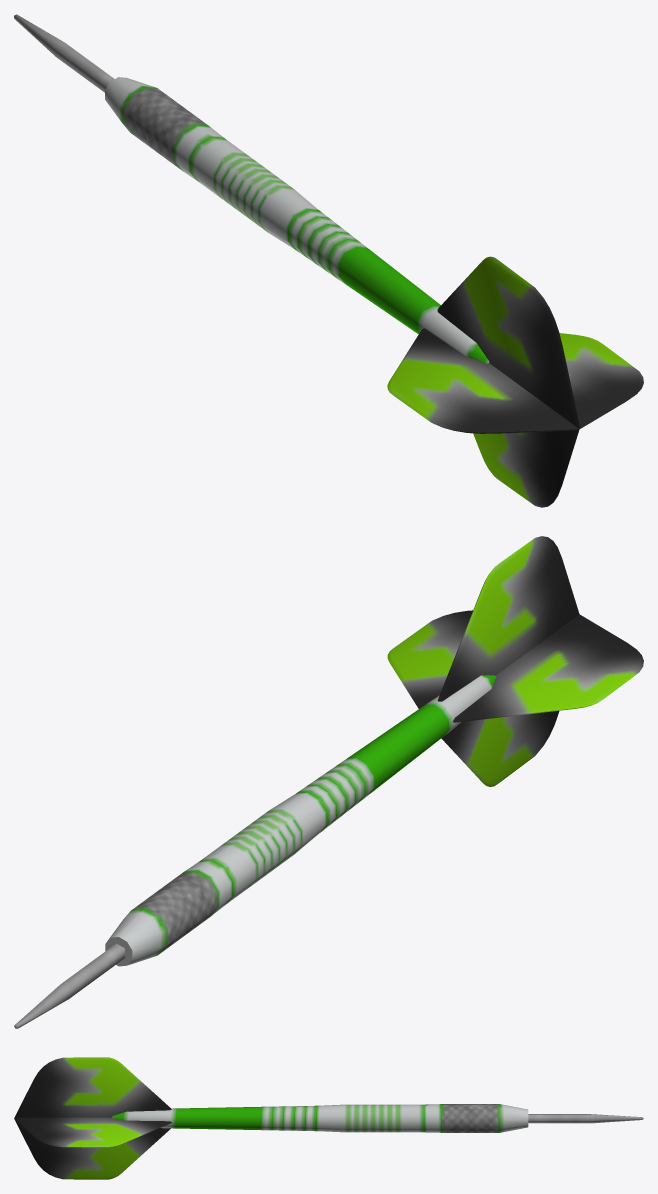
Rendered from DartB.FBX.
3 views of the same model, one above another, from view 1: azimuth 30°, elevation 25°; view 2: azimuth 150°, elevation 25°; view 3: azimuth 270°, elevation 25° (orthographic). The views are drawn at different scales.
Parts seen in each view (by area): view 1: DartB_LOD0; view 2: DartB_LOD0; view 3: DartB_LOD0.
Part boxes in pixels (x1,y1,x2,y2): DartB_LOD0: (14,14,643,507); DartB_LOD0: (14,536,643,1028); DartB_LOD0: (14,1057,643,1179).
Size of what is drawn, in the model's own units: 3.33 by 3.33 by 15.51.
